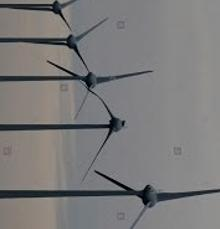faulty: (84, 97, 137, 154)
